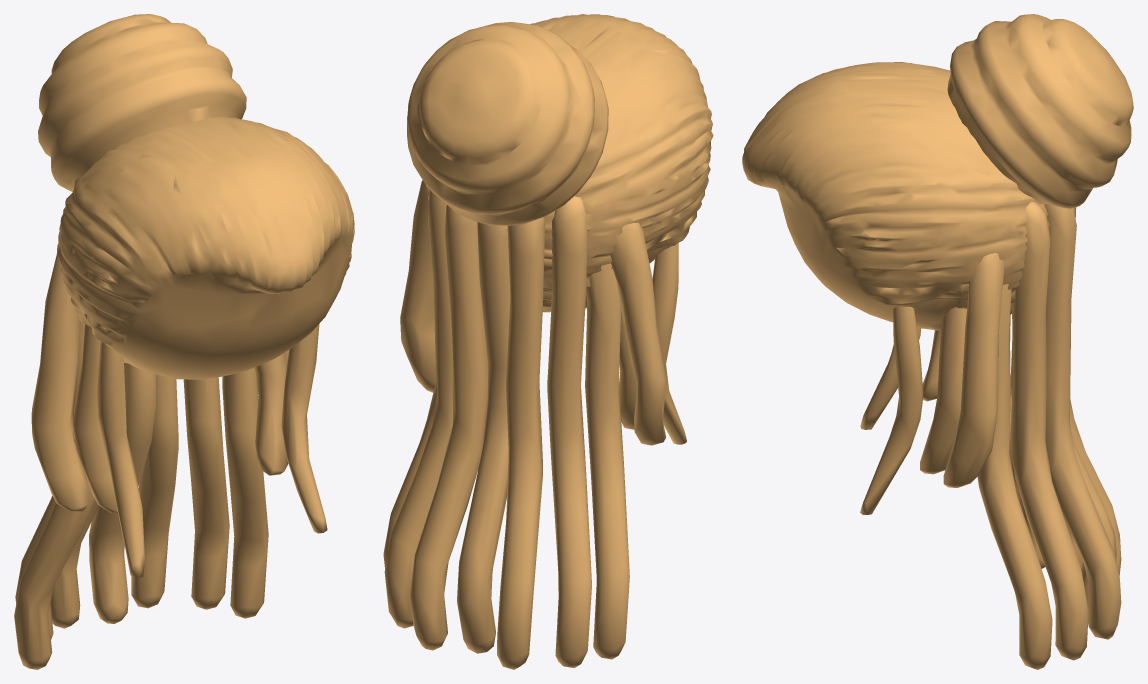
File: hair-002-2c437895.glb
The picture shows the model from 3 angles, left to right: view 1: azimuth 30°, elevation 25°; view 2: azimuth 150°, elevation 25°; view 3: azimuth 270°, elevation 25°; orthographic projection. The views are drawn at different scales.
Parts seen in each view (by area): view 1: Geo_Female_White_Hair.011; view 2: Geo_Female_White_Hair.011; view 3: Geo_Female_White_Hair.011.
Part boxes in pixels (x1,y1,x2,y2): Geo_Female_White_Hair.011: (14, 14, 354, 669); Geo_Female_White_Hair.011: (383, 14, 713, 669); Geo_Female_White_Hair.011: (742, 14, 1133, 669).
Size of the model in its own units: 1.84 by 4.01 by 2.4.
